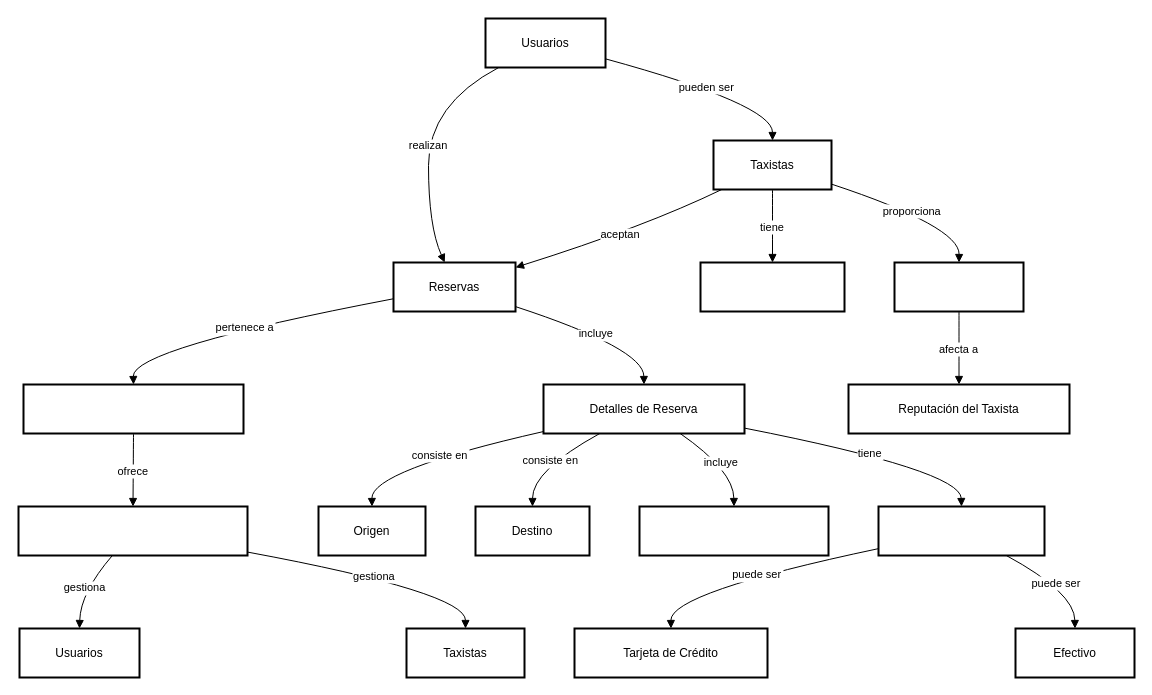
This 1152x695 diagram has some shape labels left out. The shapes that lost their labels are listed below. From the top down, each one's centre as x and y in pixels, then its label:
pixel 772 286: Calificación
pixel 958 286: Feedback
pixel 133 408: Servicio de Transporte
pixel 132 530: Plataforma de Reservas
pixel 733 530: Tiempo de Espera
pixel 961 530: Forma de Pago
